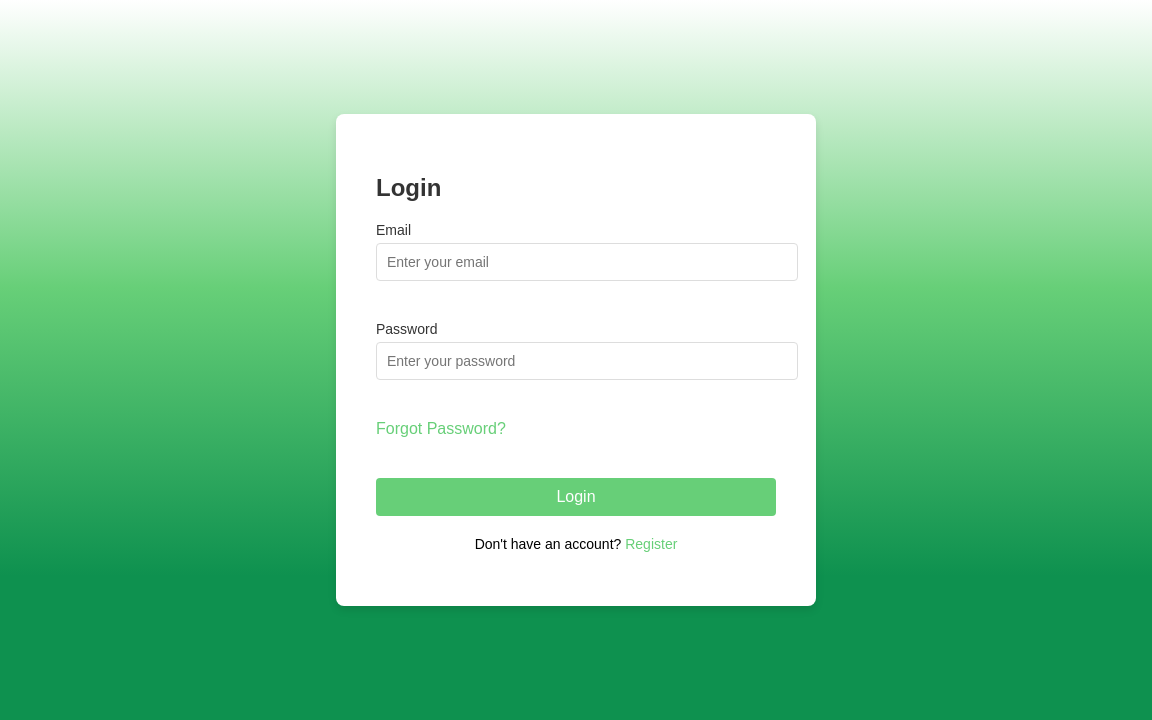
Login Component › shows error message on invalid credentials
Type "john.doe@example.com" into the field with test id "email-input".
click(587, 262); type("john.doe@example.com")  # box [376,243,798,281]
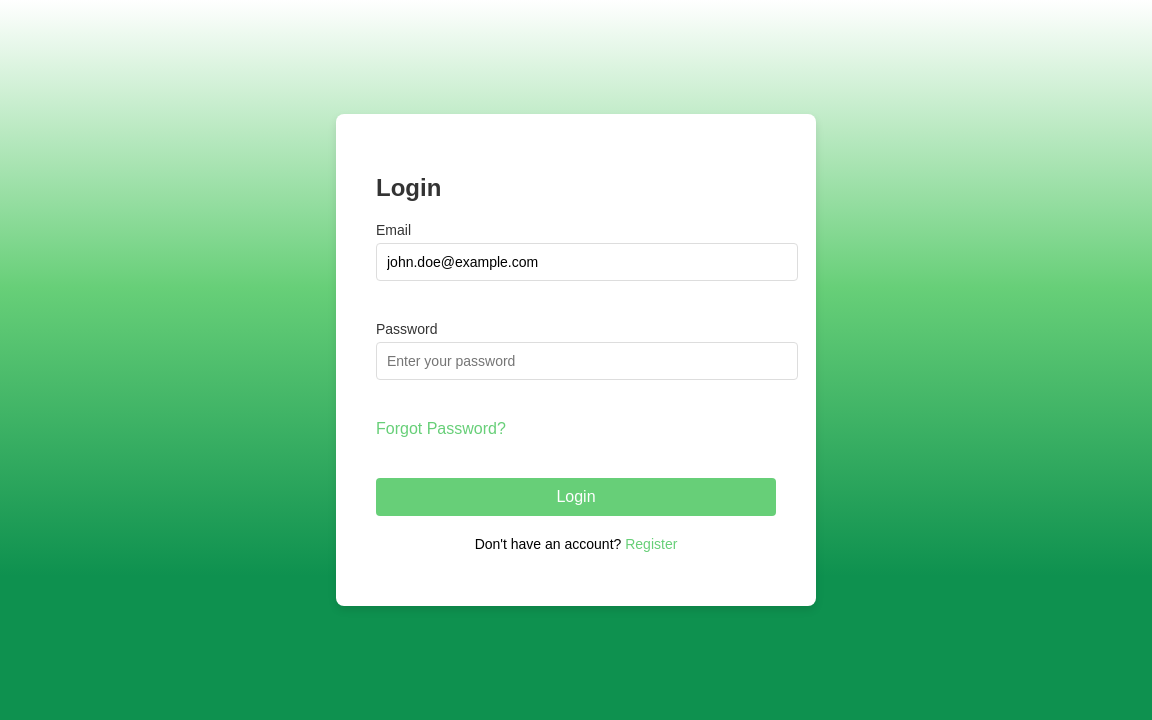
Type "wrongpassword" into the password field with test id "password-input".
click(587, 361); type("wrongpassword")  # box [376,342,798,380]
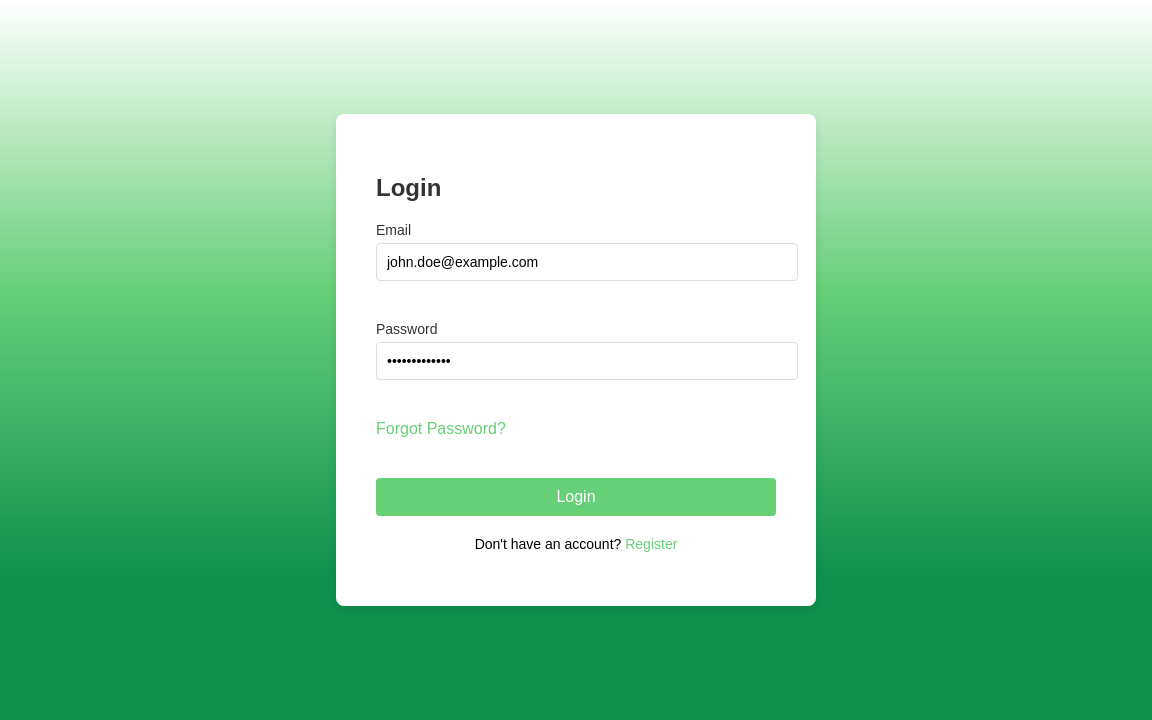
Click the button with test id "login-button".
click(576, 497)  # box [376,478,776,516]
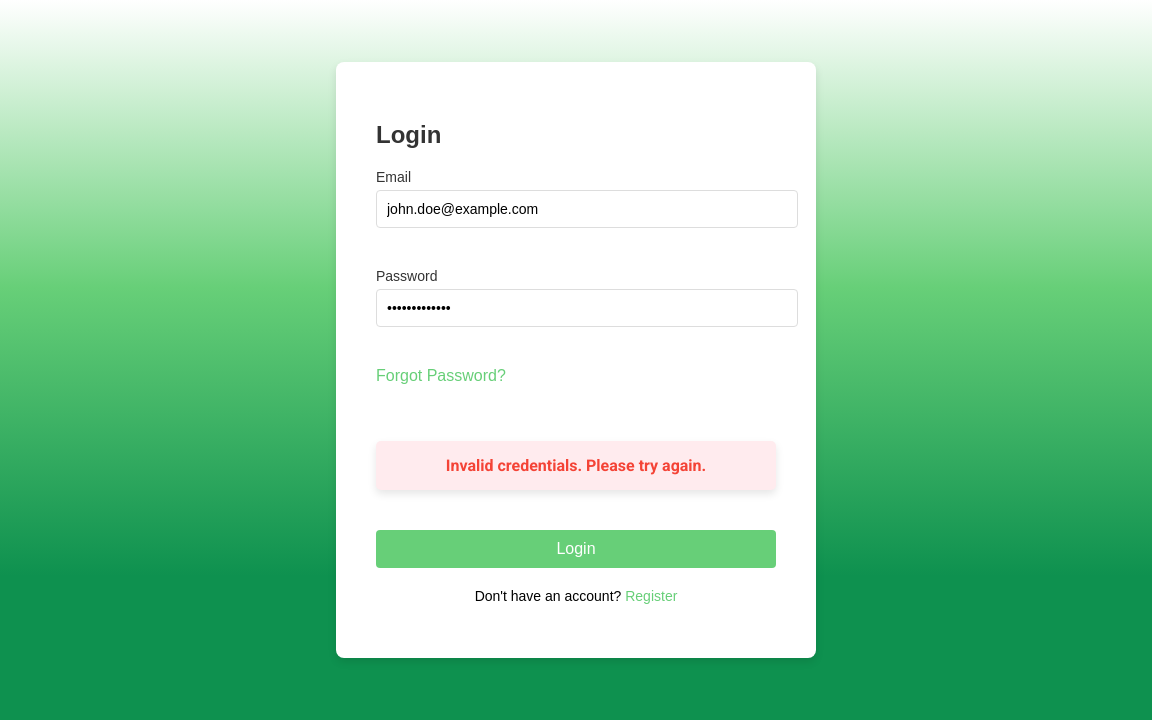
Result: the text with test id "auth-error" reads "Invalid credentials. Please try again." at [446,456,706,476]
